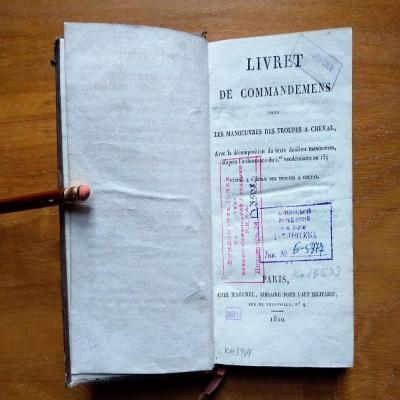rare_books: (54, 23, 355, 386)
